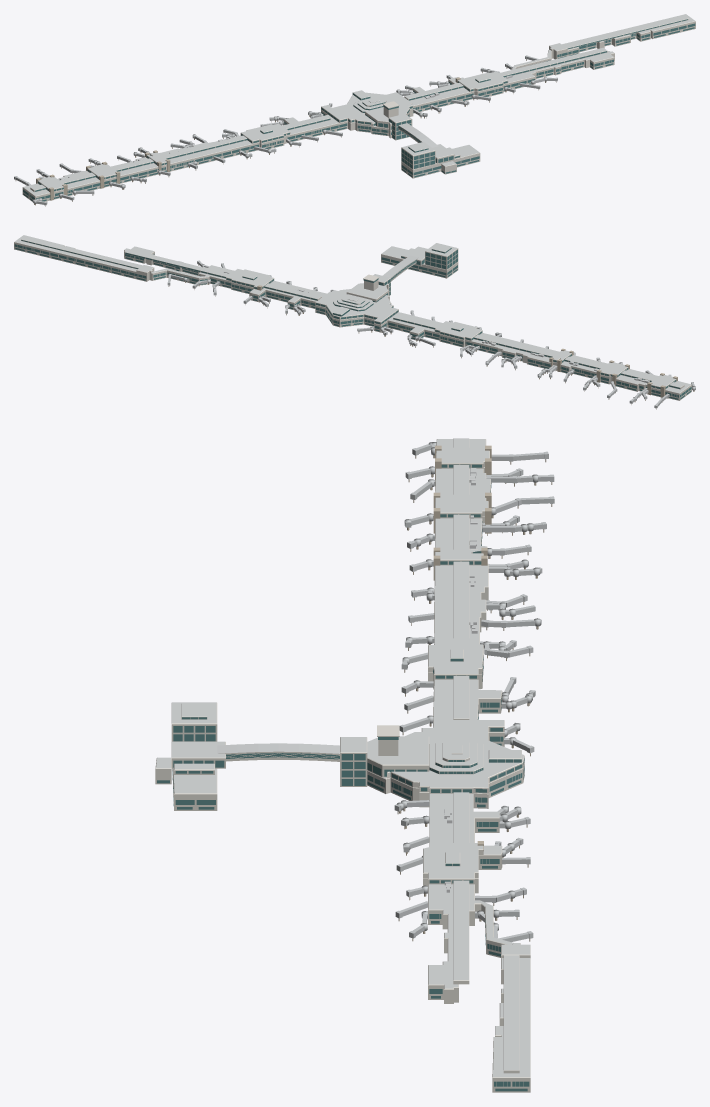
File: den-airport-concourse-a.detail.glb
3 views of the same model, one above another, from view 1: azimuth 30°, elevation 25°; view 2: azimuth 150°, elevation 25°; view 3: azimuth 270°, elevation 25° (orthographic). The views are drawn at different scales.
Parts seen in each view (by area): view 1: Denver International Airport, Concourse A; view 2: Denver International Airport, Concourse A; view 3: Denver International Airport, Concourse A.
Boxes of the visible parts, x1,y1,x2,y2 form: Denver International Airport, Concourse A: [14, 14, 695, 206]; Denver International Airport, Concourse A: [14, 235, 695, 409]; Denver International Airport, Concourse A: [155, 438, 554, 1092].
Size of the model in its own units: 1225 by 42.8 by 322.
